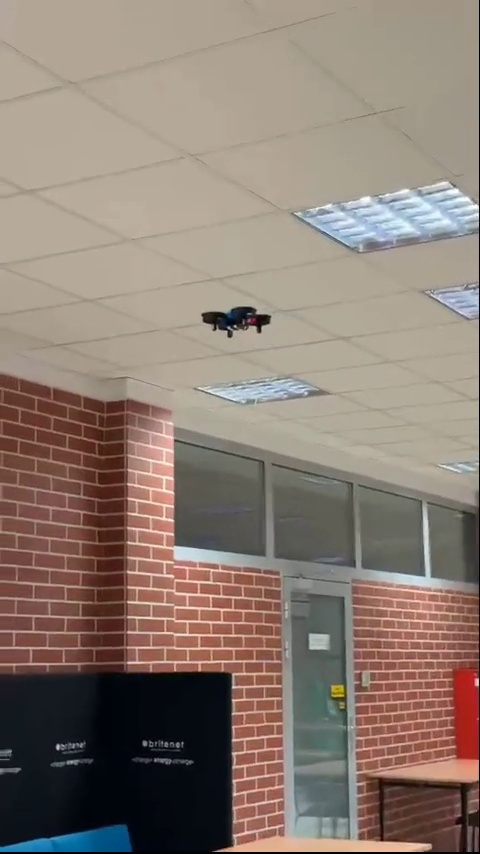drone: (203, 305, 277, 342)
